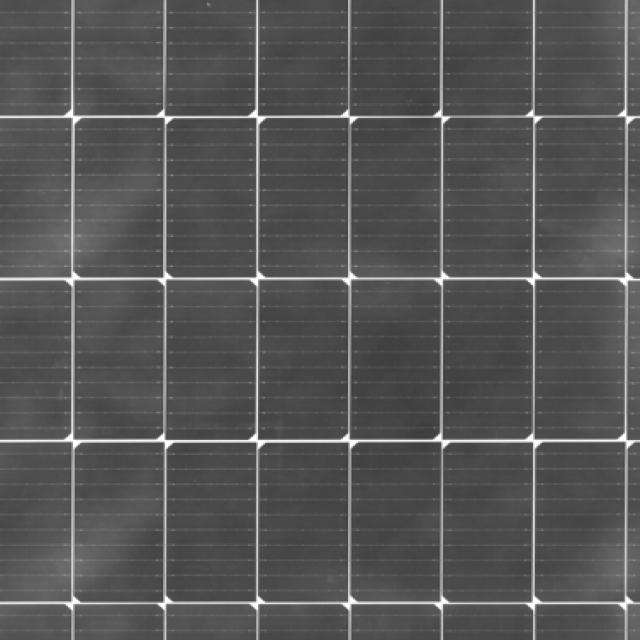CORRECT: (0, 0, 640, 640), (61, 80, 626, 578)
